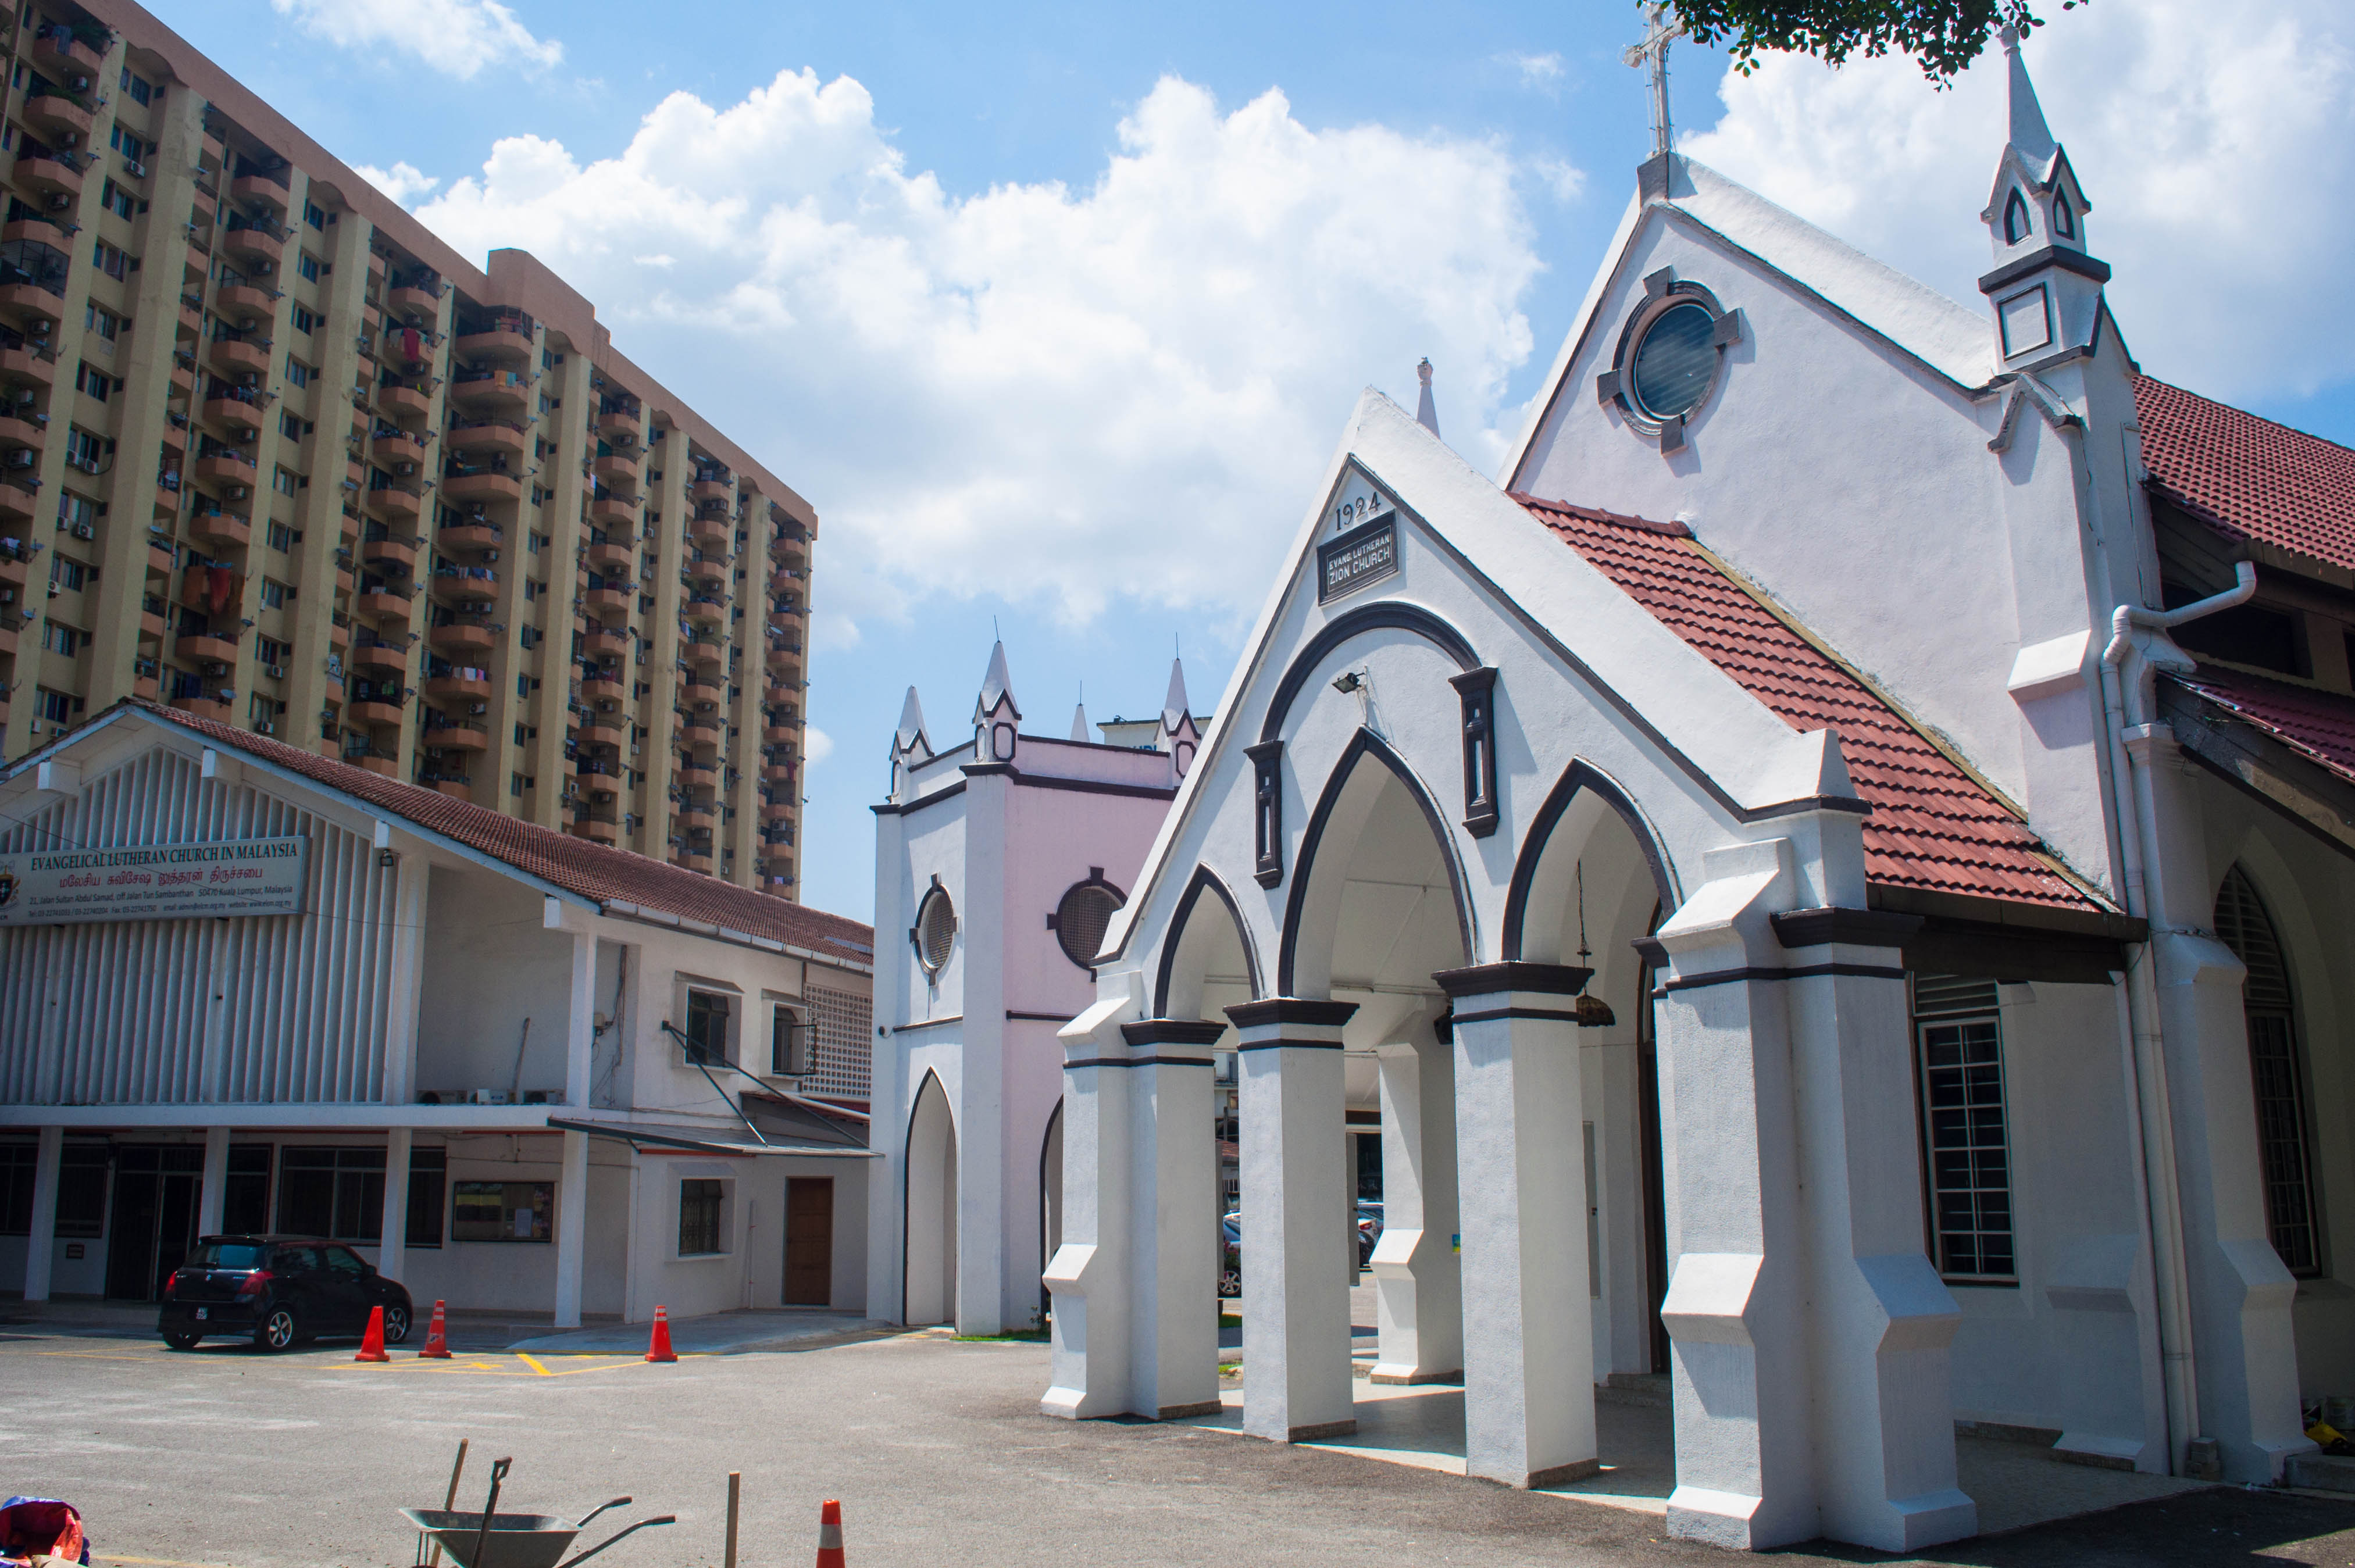Church: (847, 23, 2206, 1479)
